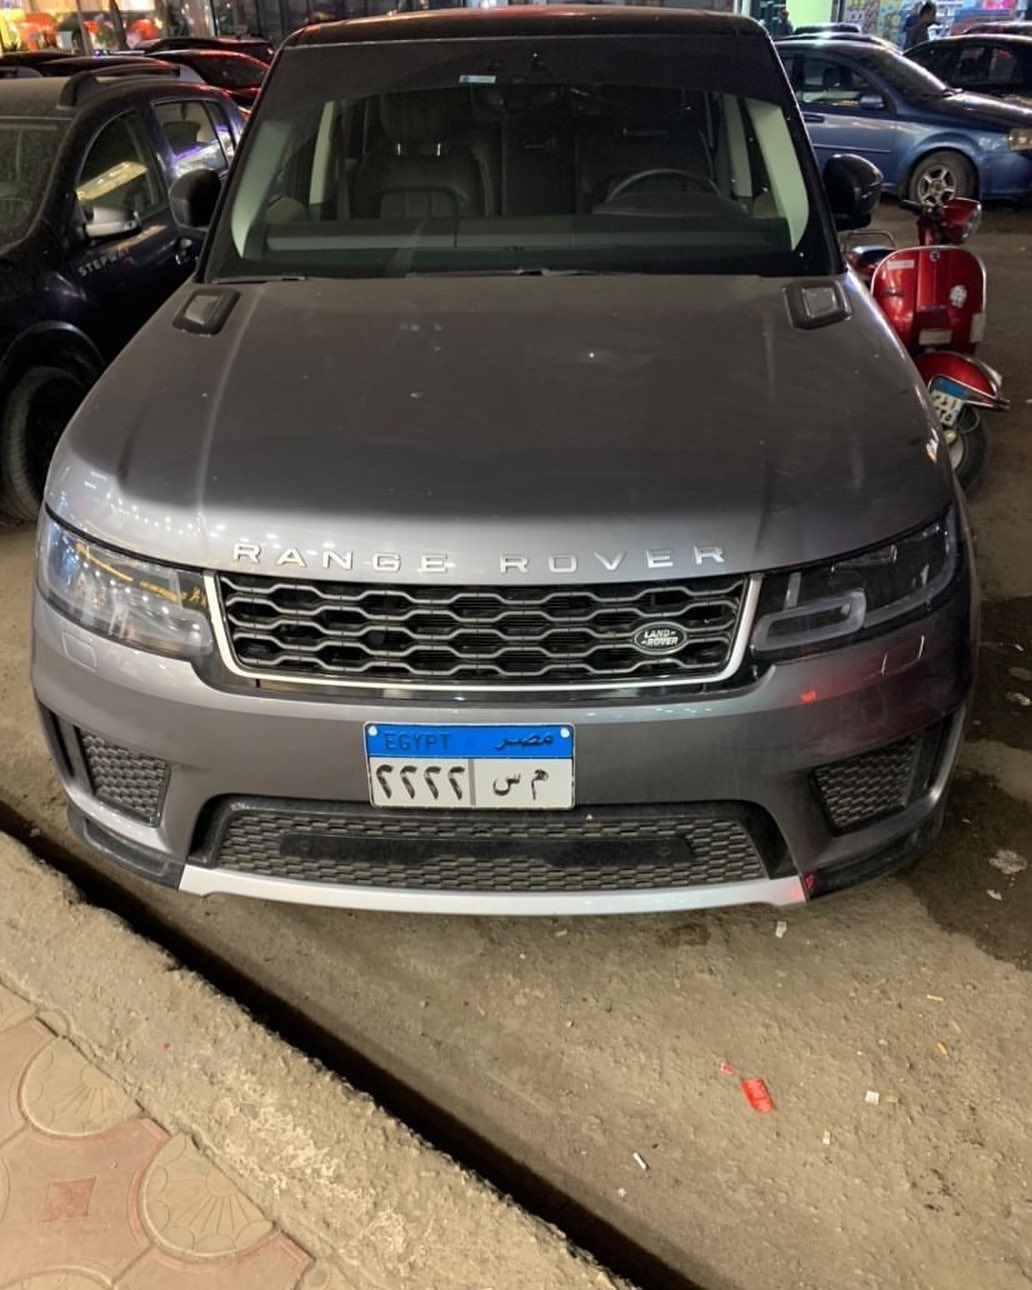carpl: (358, 710, 587, 824)
